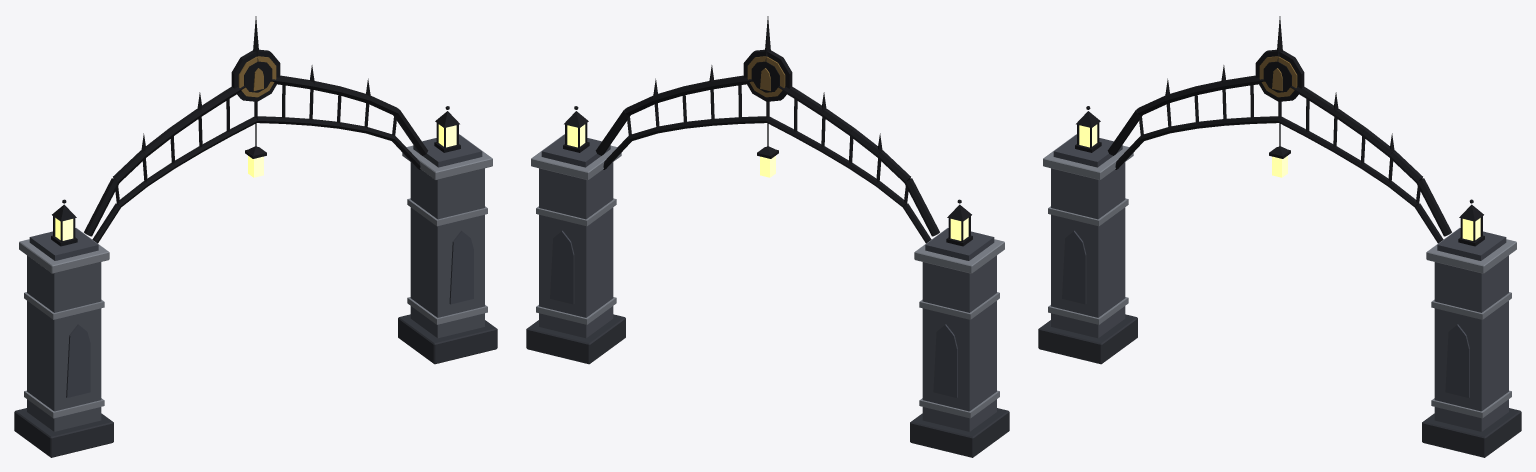
File: gothic_gate.glb
3 renders of one model, left to right at view 1: azimuth 30°, elevation 25°; view 2: azimuth 150°, elevation 25°; view 3: azimuth 330°, elevation 25°, orthographic.
Parts seen in each view (by area): view 1: gothic_gate; view 2: gothic_gate; view 3: gothic_gate.
Part boxes in pixels (x1,y1,x2,y2): gothic_gate: [14, 16, 497, 457]; gothic_gate: [526, 16, 1009, 457]; gothic_gate: [1038, 16, 1521, 457].
Size of the model in its own units: 13.3 by 10.7 by 1.9.
